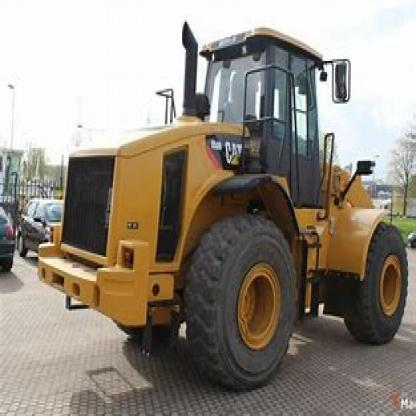bull_dozer/loader/grader: (33, 13, 412, 394)
